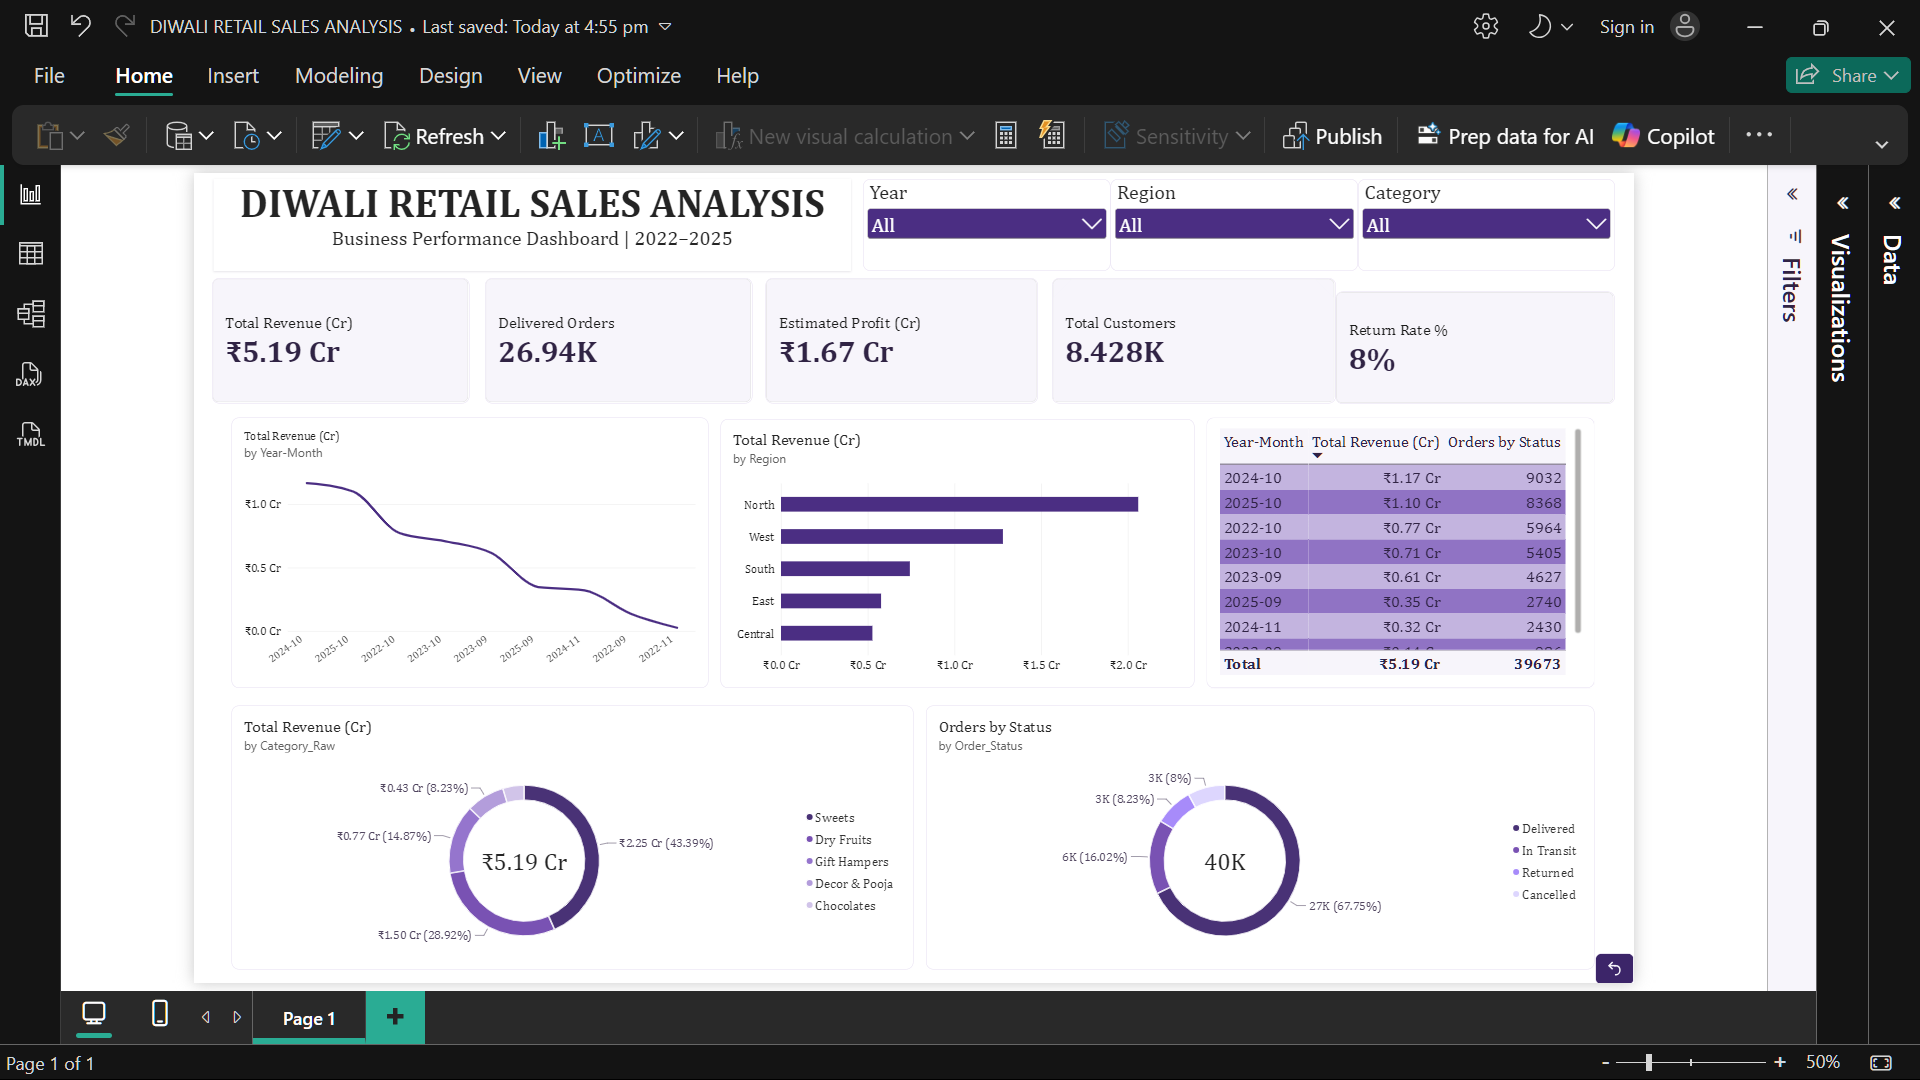

Layout of this report page (visuals, bound fields, positions):
{"tool":"powerbi","page":{"name":"Page 1","canvas":[1920,1080],"ordinal":0},"visuals":[{"type":"cardVisual","fields":{"Data":["Calendar.Total Revenue (Cr)"]},"box":[24.2,140.9,343.4,167.3],"z":0},{"type":"cardVisual","fields":{"Data":["Diwali_Sales.Delivered Orders"]},"box":[387.4,140.9,356.6,167.3],"z":1000},{"type":"cardVisual","fields":{"Data":["Diwali_Sales.Total Customers"]},"box":[1144.6,140.9,378.6,167.3],"z":2000},{"type":"cardVisual","fields":{"Data":["Calendar.Estimated Profit (Cr)"]},"box":[761.6,140.9,363.2,167.3],"z":3000},{"type":"lineChart","fields":{"Category":["Calendar.Year-Month"],"Y":["Calendar.Total Revenue (Cr)"]},"box":[50.6,325.8,636.1,361],"z":4001},{"type":"clusteredBarChart","fields":{"Category":["Diwali_Sales.Region"],"Y":["Calendar.Total Revenue (Cr)"]},"box":[702.2,328,631.7,358.8],"z":4002},{"type":"donutChart","fields":{"Category":["Diwali_Sales.Category_Raw"],"Y":["Calendar.Total Revenue (Cr)"]},"box":[50.6,711,909.1,352.2],"z":4003},{"type":"donutChart","fields":{"Category":["Diwali_Sales.Order_Status"],"Y":["Calendar.Orders by Status"]},"box":[975.1,711,891.5,352.2],"z":4004},{"type":"slicer","fields":{"Values":["Calendar.Year"]},"box":[892.5,7.5,330,122.5],"z":4005},{"type":"slicer","fields":{"Values":["Diwali_Sales.Region"]},"box":[1222.5,7.5,330,122.5],"z":4006},{"type":"slicer","fields":{"Values":["Diwali_Sales.Category_Raw"]},"box":[1552.5,7.5,342.5,122.5],"z":4007},{"type":"textbox","box":[25,7.5,850,122.5],"z":4008},{"type":"cardVisual","fields":{"Data":["Calendar.Return Rate %"]},"box":[1522.5,157.5,372.5,150],"z":4009},{"type":"tableEx","fields":{"Values":["Calendar.Year-Month","Calendar.Total Revenue (Cr)","Calendar.Orders by Status"]},"box":[1349.3,325.8,517.3,361],"z":4010},{"type":"actionButton","box":[1867.5,1040,52.5,42.5],"z":4011}]}

Visuals, with their boxes on the page's 1920x1080 design canvas (x1, y1, x2, y2). These are canvas units, not pixel positions in the 1920x1080 screenshot, which may show the page scaled, cropped or inside an application window:
cardVisual - Calendar.Total Revenue (Cr): <box>24,141,368,308</box>
cardVisual - Diwali_Sales.Delivered Orders: <box>387,141,744,308</box>
cardVisual - Diwali_Sales.Total Customers: <box>1145,141,1523,308</box>
cardVisual - Calendar.Estimated Profit (Cr): <box>762,141,1125,308</box>
lineChart - Calendar.Year-Month x Calendar.Total Revenue (Cr): <box>51,326,687,687</box>
clusteredBarChart - Diwali_Sales.Region x Calendar.Total Revenue (Cr): <box>702,328,1334,687</box>
donutChart - Diwali_Sales.Category_Raw x Calendar.Total Revenue (Cr): <box>51,711,960,1063</box>
donutChart - Diwali_Sales.Order_Status x Calendar.Orders by Status: <box>975,711,1867,1063</box>
slicer - Calendar.Year: <box>892,8,1222,130</box>
slicer - Diwali_Sales.Region: <box>1222,8,1552,130</box>
slicer - Diwali_Sales.Category_Raw: <box>1552,8,1895,130</box>
textbox: <box>25,8,875,130</box>
cardVisual - Calendar.Return Rate %: <box>1522,158,1895,308</box>
tableEx - Calendar.Year-Month x Calendar.Total Revenue (Cr): <box>1349,326,1867,687</box>
actionButton: <box>1868,1040,1920,1082</box>
